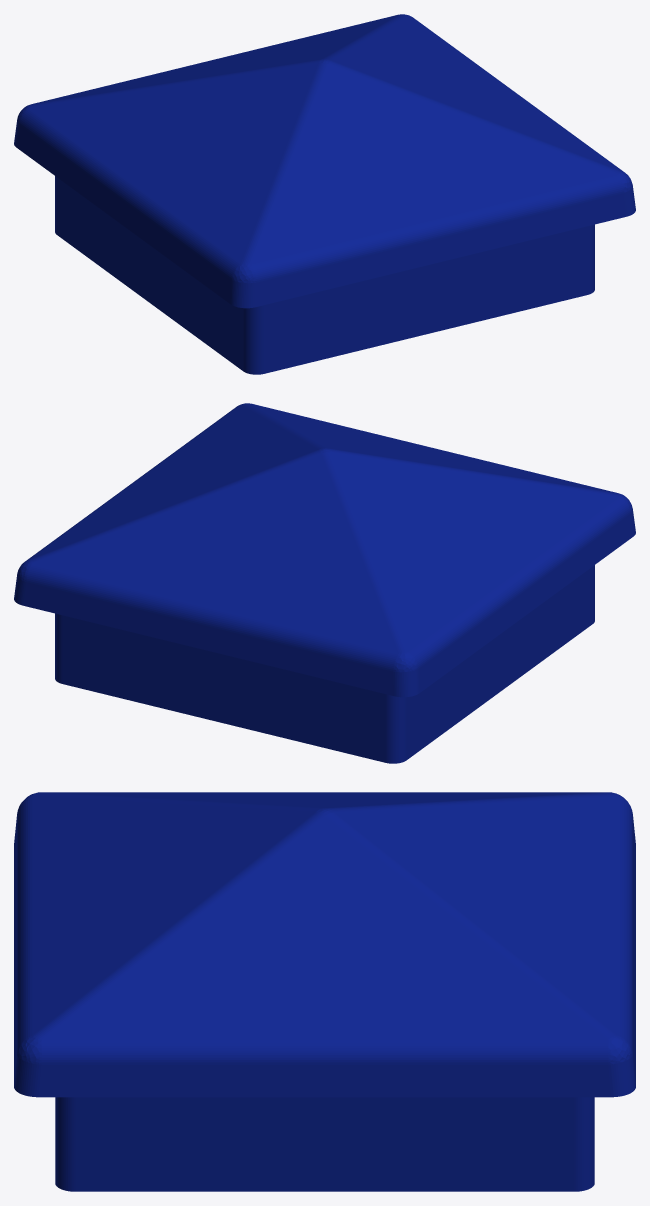
Rendered from 60x60_outer_pyramid.obj.
The picture shows the model from 3 angles, top to bottom: view 1: azimuth 30°, elevation 25°; view 2: azimuth 150°, elevation 25°; view 3: azimuth 270°, elevation 25°; orthographic projection. The views are drawn at different scales.
Visible parts, largest first — view 1: 60x60_outer_pyramid; view 2: 60x60_outer_pyramid; view 3: 60x60_outer_pyramid.
Boxes of the visible parts, box(x1,y1,x2,y2) form: 60x60_outer_pyramid: box(14, 14, 635, 374); 60x60_outer_pyramid: box(14, 403, 635, 763); 60x60_outer_pyramid: box(14, 792, 635, 1191).
Bounding box in the file's own units: 75.5 × 35.8 × 75.5.
